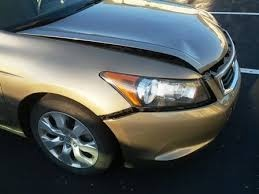Dent: (100, 97, 139, 128)
Smashed: (146, 10, 228, 73)
